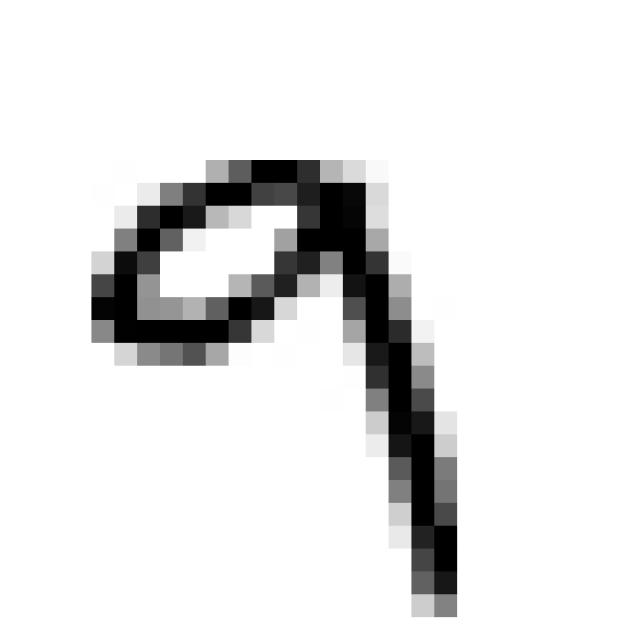9 -nine-: (66, 126, 494, 629)
